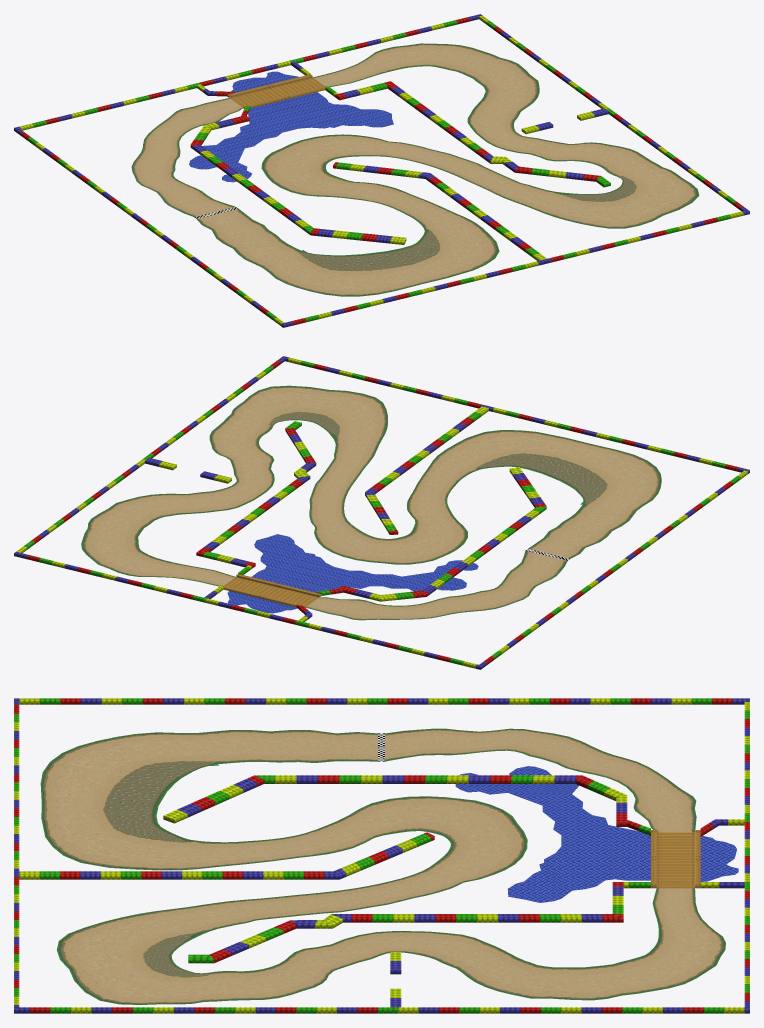
File: old_donut_sfc.obj
3 renders of one model, top to bottom at view 1: azimuth 30°, elevation 25°; view 2: azimuth 150°, elevation 25°; view 3: azimuth 270°, elevation 25°, orthographic. The views are drawn at different scales.
Parts seen in each view (by area): view 1: polygon6, polygon2, polygon4, polygon5, polygon3, polygon1; view 2: polygon6, polygon2, polygon4, polygon5, polygon3, polygon1; view 3: polygon6, polygon2, polygon4, polygon5, polygon3, polygon1.
Boxes of the visible parts, x1,y1,x2,y2 form: polygon6: (131,43,699,296); polygon2: (14,14,749,324); polygon4: (14,16,749,327); polygon5: (189,71,393,182); polygon3: (299,175,635,270); polygon1: (227,74,326,108); polygon6: (81,385,661,620); polygon2: (14,356,749,666); polygon4: (14,358,749,669); polygon5: (227,534,478,613); polygon3: (270,412,605,504); polygon1: (221,574,321,607); polygon6: (40,728,725,1004); polygon2: (14,698,749,1009); polygon4: (14,700,749,1013); polygon5: (455,766,738,902); polygon3: (105,761,218,976); polygon1: (651,830,700,888).
Size of what is drawn, in the model's own units: 209 by 1.25 by 209.
